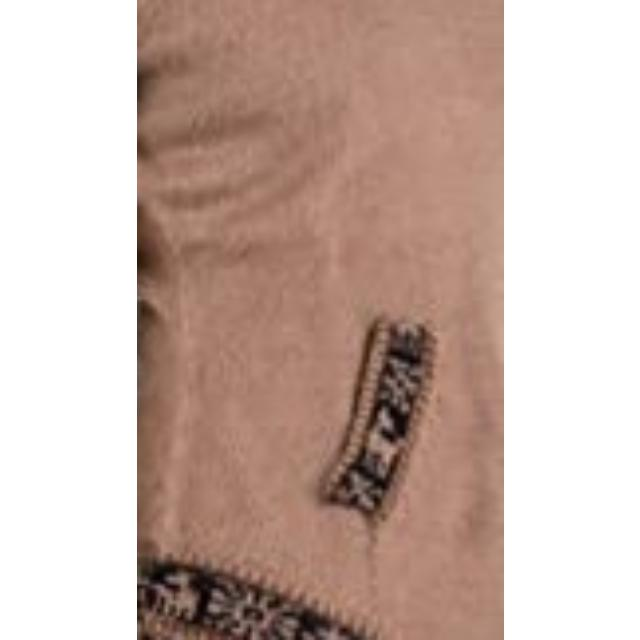wool: (136, 0, 504, 640)
